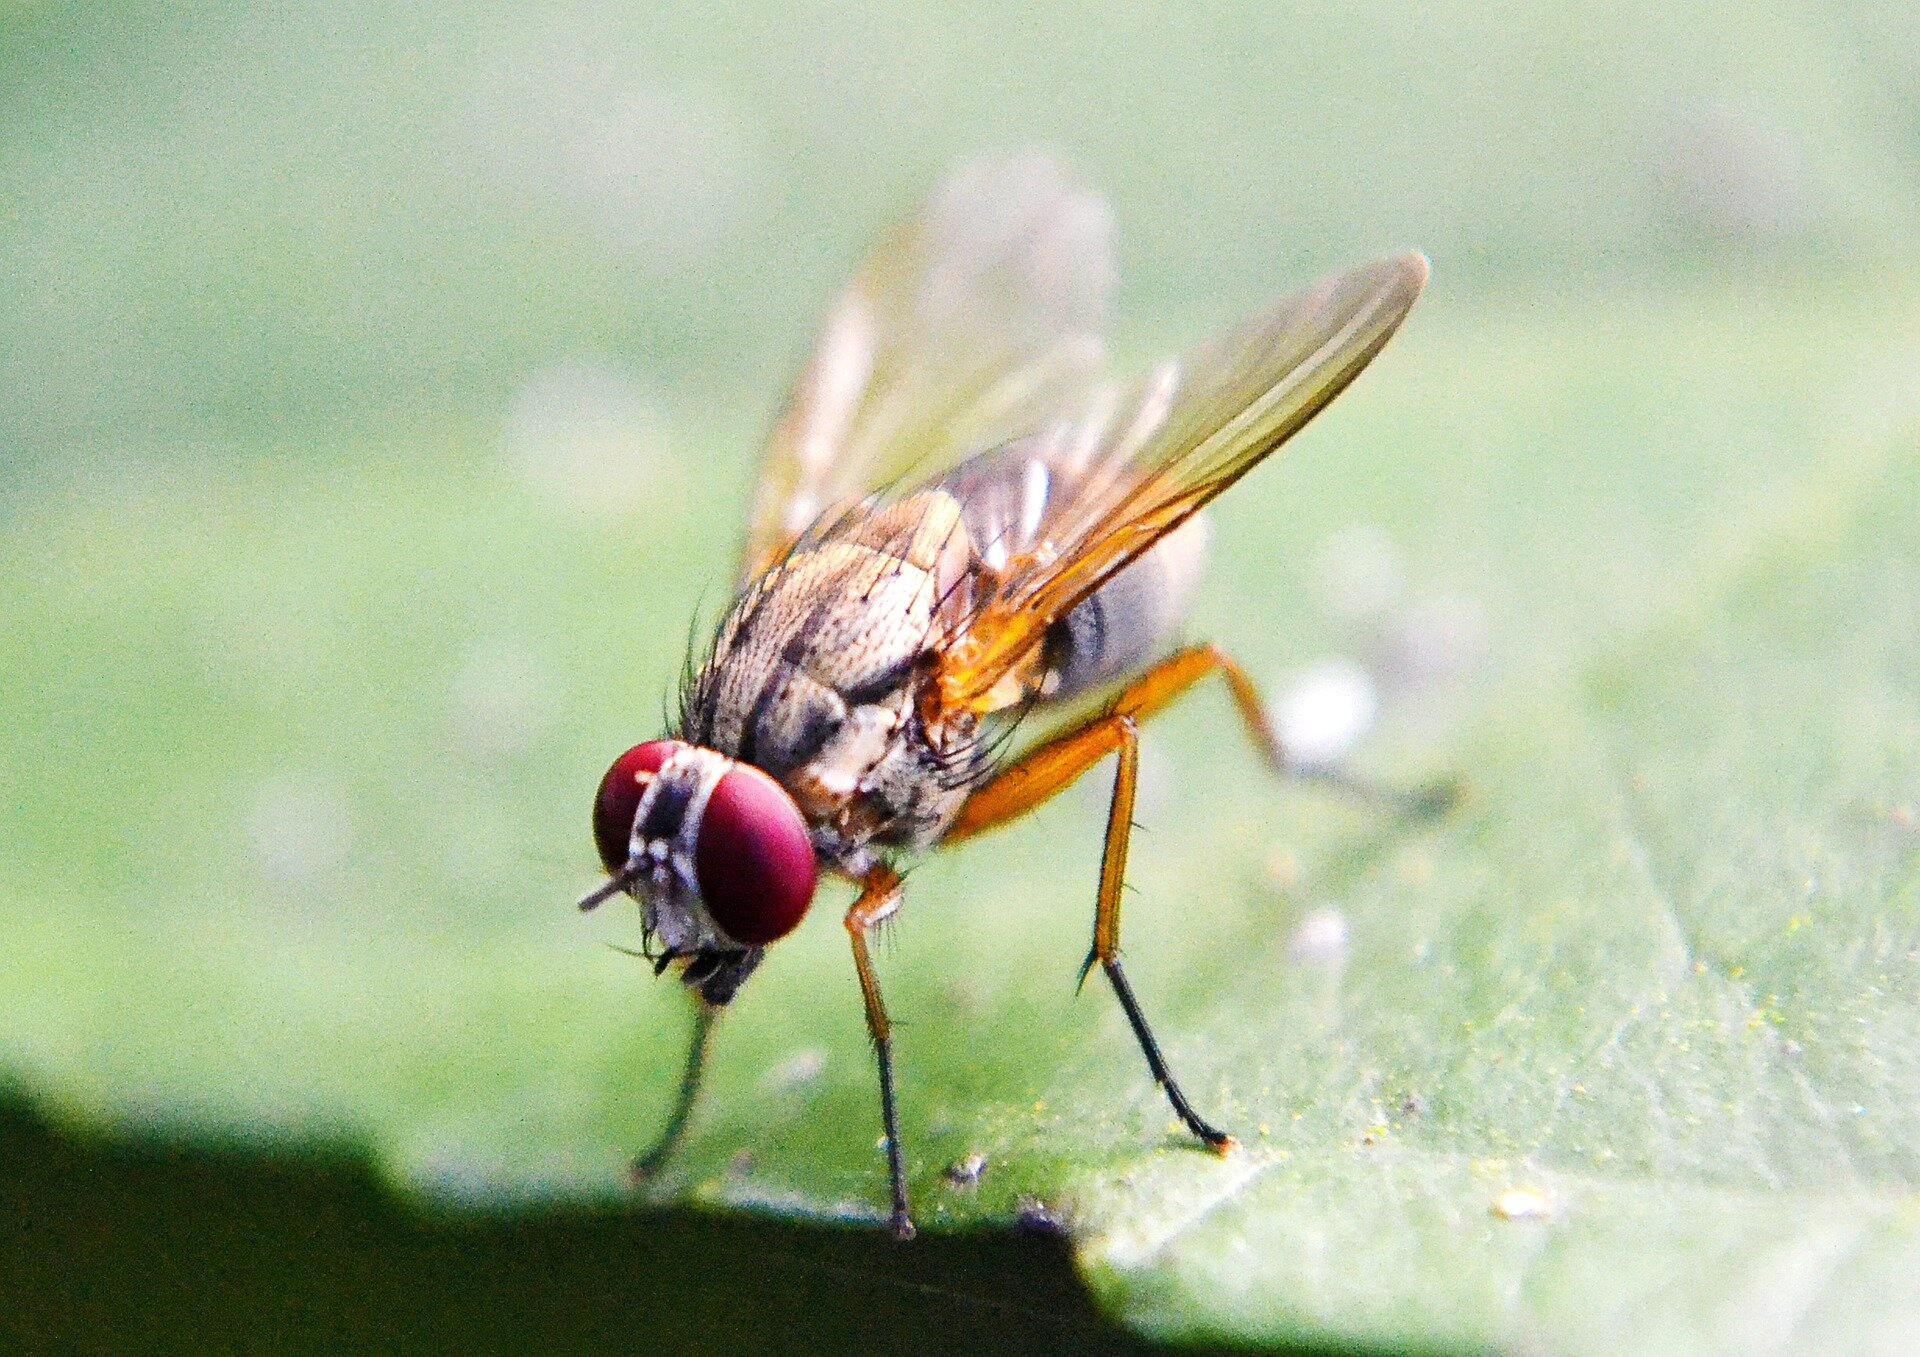Fruit fly: (480, 191, 1261, 1248)
